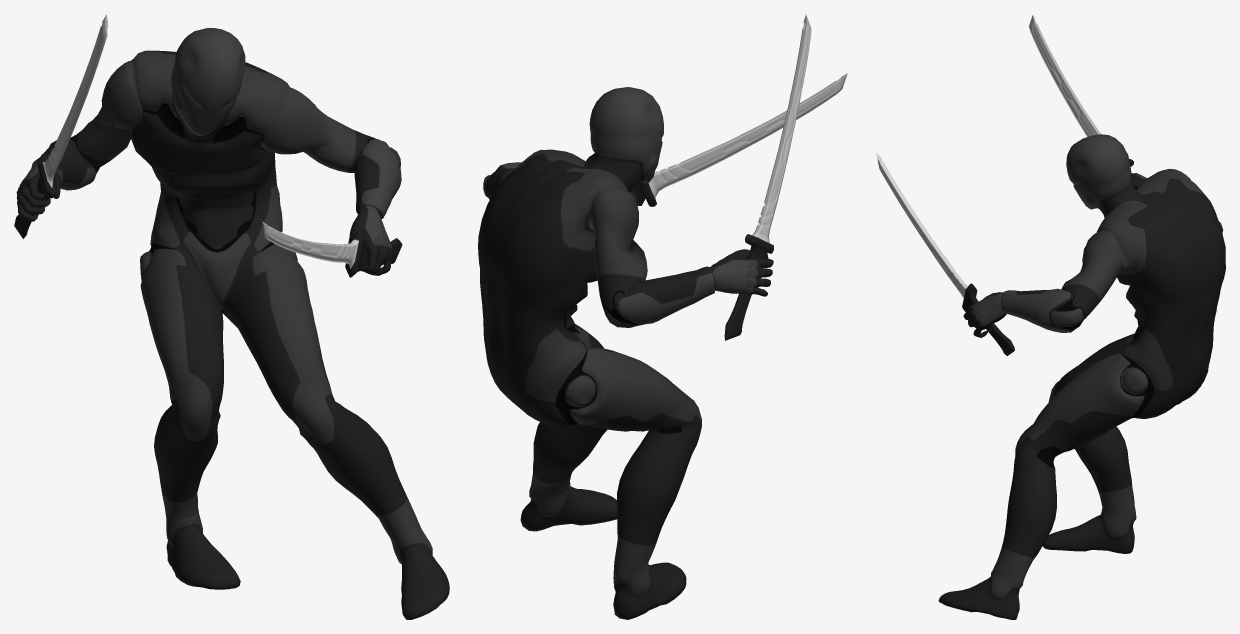
The picture shows the model from 3 angles, left to right: view 1: azimuth 30°, elevation 25°; view 2: azimuth 150°, elevation 25°; view 3: azimuth 270°, elevation 25°; orthographic projection. The views are drawn at different scales.
Visible parts, largest first — view 1: Cyborg_Ninja_Killer, Sword_l001, Sword_l; view 2: Cyborg_Ninja_Killer, Sword_l001, Sword_l; view 3: Cyborg_Ninja_Killer, Sword_l, Sword_l001.
Part boxes in pixels (x1,y1,x2,y2): Cyborg_Ninja_Killer: [16, 28, 449, 619]; Sword_l001: [14, 14, 107, 238]; Sword_l: [262, 222, 402, 277]; Cyborg_Ninja_Killer: [478, 87, 773, 619]; Sword_l001: [724, 14, 811, 340]; Sword_l: [632, 73, 847, 206]; Cyborg_Ninja_Killer: [938, 134, 1225, 619]; Sword_l: [876, 152, 1014, 356]; Sword_l001: [1029, 14, 1133, 166].
Size of the model in its own units: 98.37 by 175 by 112.
Materials: 2 (2 with a texture image).
